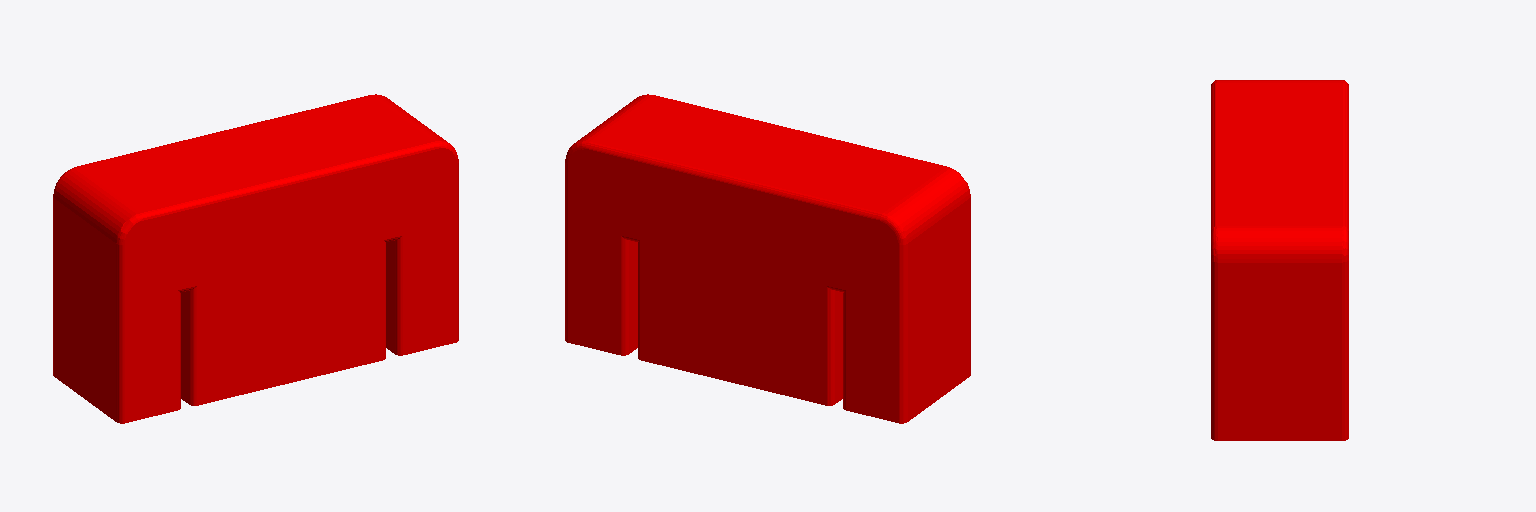
File: Body.obj
3 views of the same model, side by side, from view 1: azimuth 30°, elevation 25°; view 2: azimuth 150°, elevation 25°; view 3: azimuth 270°, elevation 25° (orthographic).
Bounding box in the file's own units: 1.42 × 0.806 × 0.496.